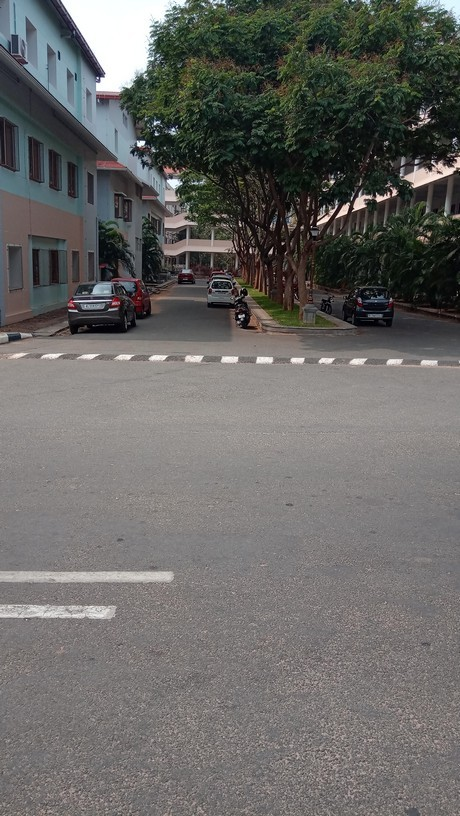bump: (1, 351, 459, 371)
